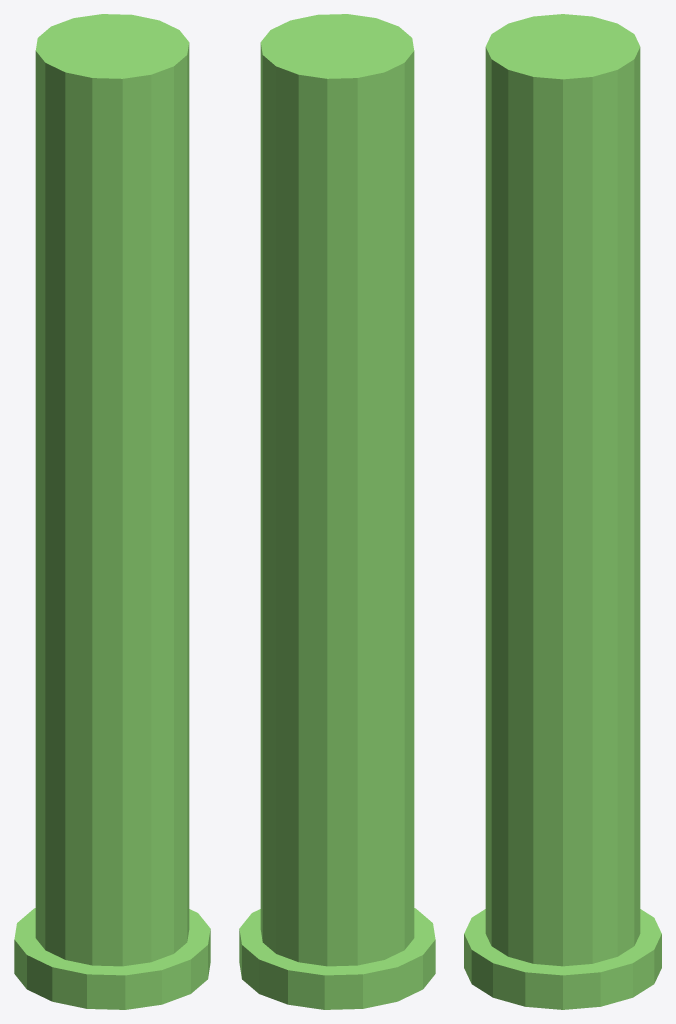
The model's file is pipe.fbx.
3 views of the same model, side by side, from view 1: azimuth 30°, elevation 25°; view 2: azimuth 150°, elevation 25°; view 3: azimuth 270°, elevation 25° (orthographic).
Visible parts, largest first — view 1: Cylinder; view 2: Cylinder; view 3: Cylinder.
Boxes of the visible parts, bbox=[...] form: Cylinder: bbox=[14, 14, 210, 1009]; Cylinder: bbox=[239, 14, 435, 1009]; Cylinder: bbox=[464, 14, 661, 1009].
Size of the model in its own units: 256 by 1317 by 256.
